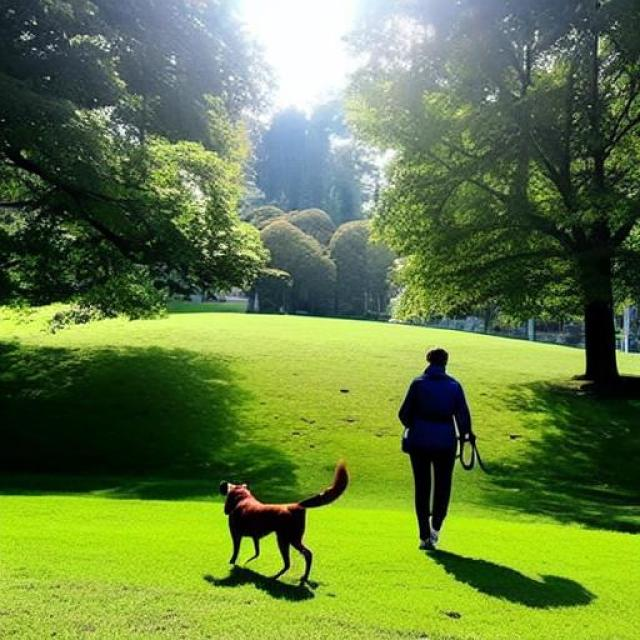Unleashed_Dog: (217, 440, 457, 584)
